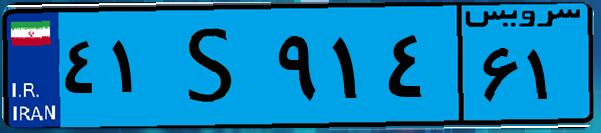1: (330, 28, 385, 110), (525, 38, 570, 115), (110, 28, 158, 98)
4: (385, 28, 445, 110), (57, 26, 110, 100)
6: (475, 38, 525, 113)
9: (270, 28, 330, 110)
S: (158, 12, 270, 120)
